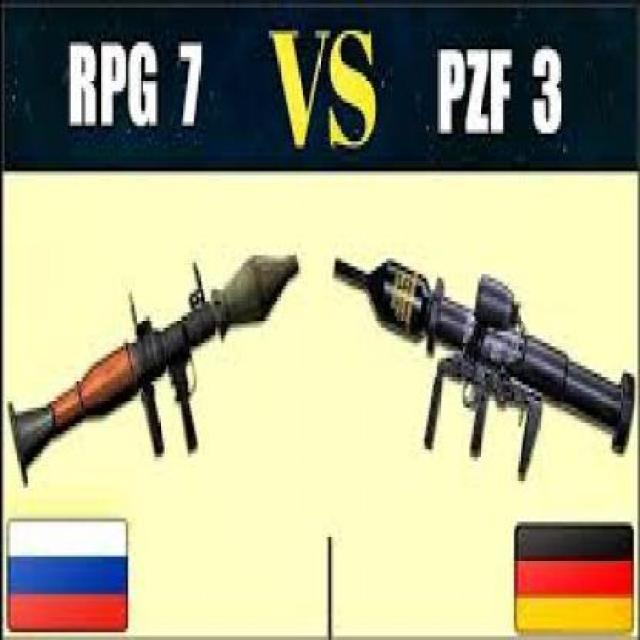weapon: (7, 234, 308, 492)
